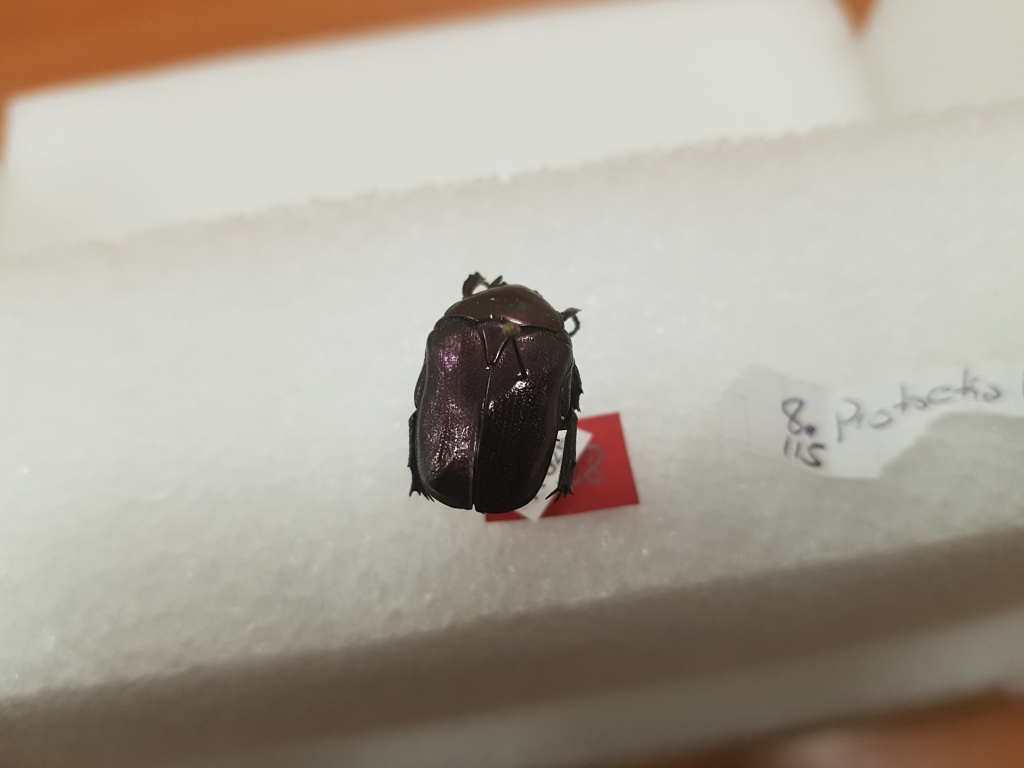Protaetia_besucheti: (399, 261, 588, 515)
